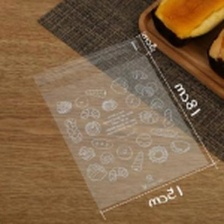snack: (27, 30, 218, 216)
